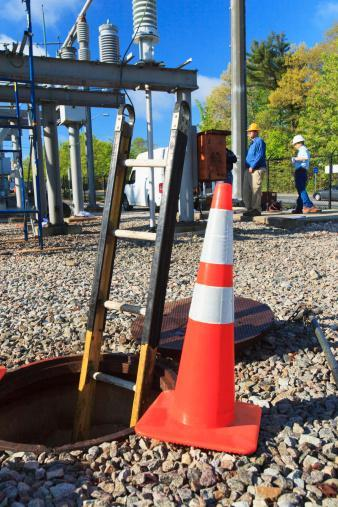Cone: (136, 180, 263, 456)
